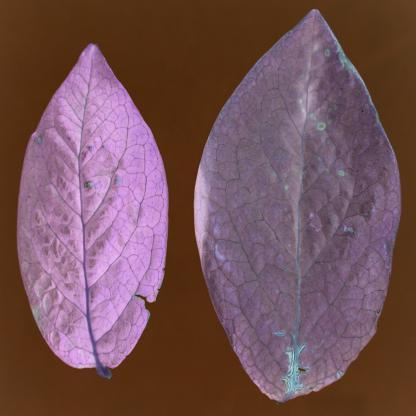Blueberry leaf: (192, 6, 401, 410), (16, 38, 178, 398)
